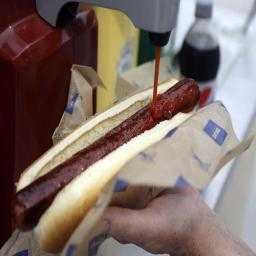hotdog: (11, 51, 204, 249)
